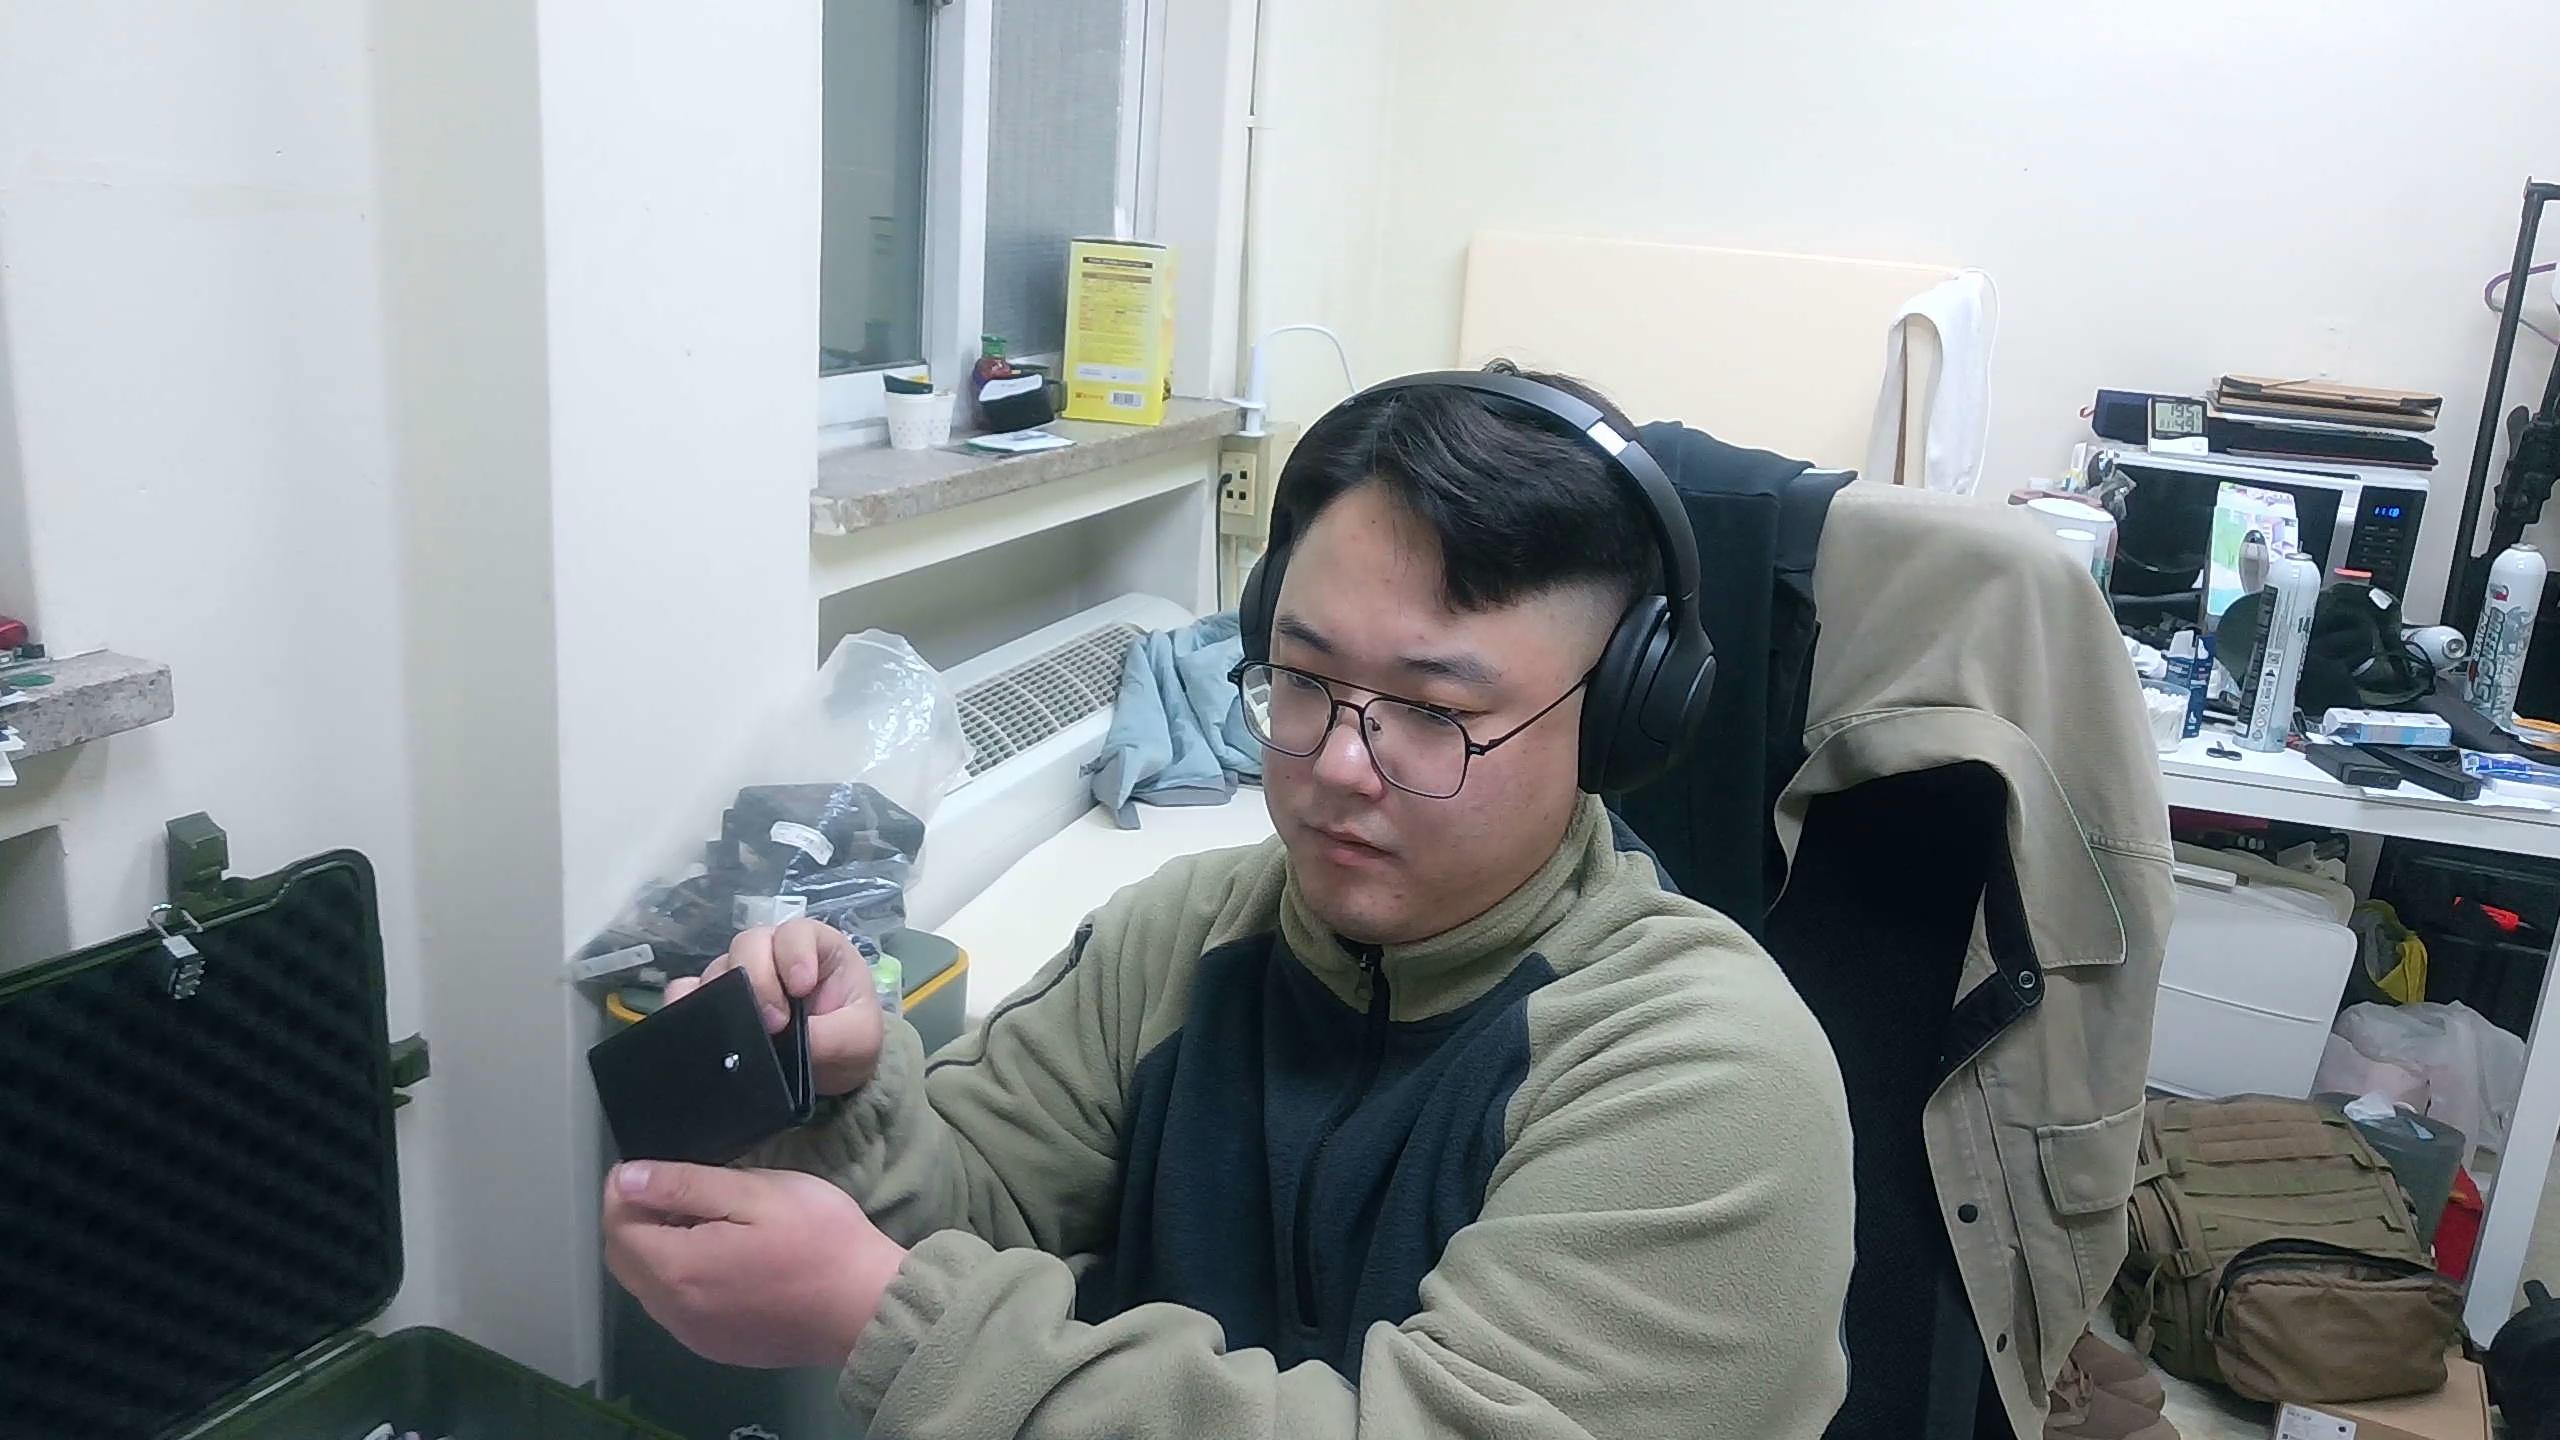Wallet: (587, 965, 821, 1169)
